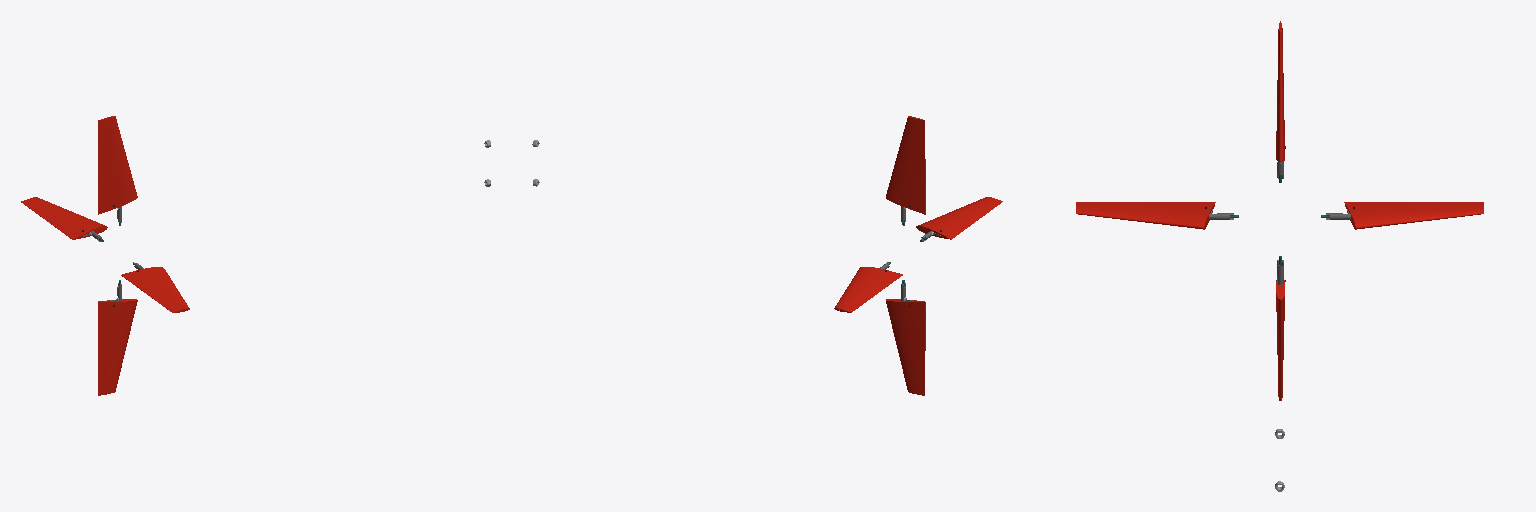
robot.urdf — tethys:
<?xml version="1.0"?>
<robot name="tethys">

  <link name="tethys/base_link">
    <visual>
      <geometry>
        <mesh filename="package://torpedo_sim/models/tethys/meshes/newbase.dae"/>
      </geometry>
      <origin xyz="0 0 0" rpy="0 0 0"/> 
    </visual>
  </link>

  <link name="horizontal_fins">
    <visual>
      <geometry>
        <mesh filename="package://torpedo_sim/models/tethys/meshes/horizontal.dae"/>
      </geometry>
    </visual>
  </link>
  
<joint name="horizontal_fins_joint" type="revolute">
    <parent link="tethys/base_link"/>
    <child link="horizontal_fins"/>
    
    <origin xyz="-1.05 0 0" rpy="0 0 0"/> 
    
    <axis xyz="0 1 0"/>
    <limit lower="-0.5" upper="0.5" effort="10" velocity="10"/>
  </joint>

 
  <link name="vertical_fins">
    <visual>
      <geometry>
        <mesh filename="package://torpedo_sim/models/tethys/meshes/vertical.dae"/>
      </geometry>
    </visual>
  </link>

 <joint name="vertical_fins_joint" type="revolute">
    <parent link="tethys/base_link"/>
    <child link="vertical_fins"/>
    
    <origin xyz="-1.05 0 0" rpy="0 0 0"/>
    
    <axis xyz="0 0 1"/>
    <limit lower="-0.5" upper="0.5" effort="10" velocity="10"/>
  </joint>

  <link name="propeller">
     <visual>
      <geometry>
        <mesh filename="package://torpedo_sim/models/tethys/meshes/propeller.dae"/>
      </geometry>
    </visual>
  </link>

  <joint name="propeller_joint" type="continuous">
    <parent link="tethys/base_link"/>
    <child link="propeller"/>
    <origin xyz="-1.4 0 0" rpy="0 0 0"/>
    <axis xyz="1 0 0"/> 
  </joint>

</robot>

--- Facts derived from the render (not from the file) ---
Views: 3 orthographic renders of the robot side by side, from view 1: azimuth 30°, elevation 25°; view 2: azimuth 150°, elevation 25°; view 3: azimuth 270°, elevation 25°.
Robot: tethys — 4 links, 3 joints (2 revolute, 1 continuous); root link tethys/base_link; default pose: every joint at zero.
Links seen in each view (by area): view 1: vertical_fins, horizontal_fins; view 2: vertical_fins, horizontal_fins; view 3: horizontal_fins, vertical_fins.
Boxes of the visible links, x1=… form: vertical_fins: x1=98, y1=116, x2=490, y2=395; horizontal_fins: x1=21, y1=197, x2=189, y2=312; vertical_fins: x1=532, y1=116, x2=925, y2=395; horizontal_fins: x1=834, y1=197, x2=1002, y2=312; horizontal_fins: x1=1076, y1=202, x2=1483, y2=229; vertical_fins: x1=1275, y1=21, x2=1285, y2=491.
Bounding box of the posed robot: 0.8688 × 0.5819 × 0.5819 m (x, y, z).
2 mesh visuals loaded from 4 distinct referenced files (2 Collada DAE); not drawn: 2 (reference not matched to a file when rendering).
